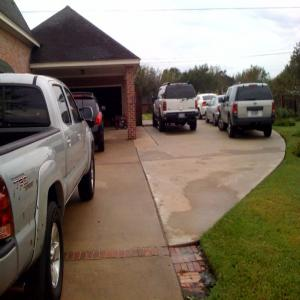Vehicle-registration-plate: (248, 111, 264, 118)
